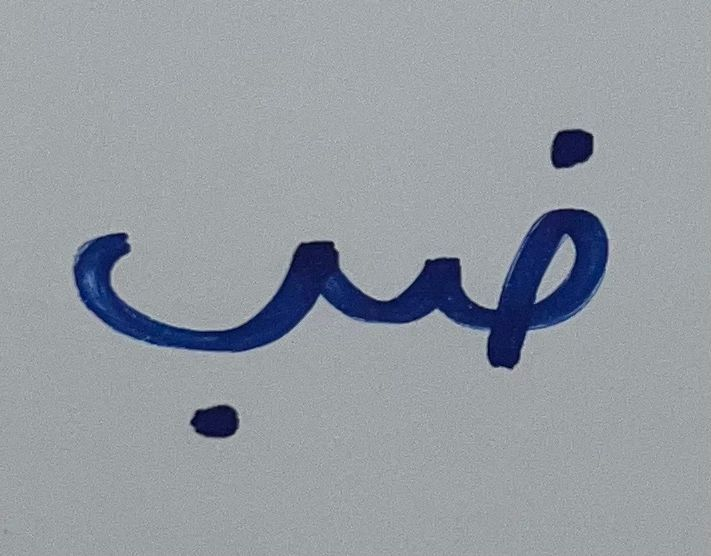beh: (60, 171, 378, 452)
dad: (388, 109, 638, 395)
